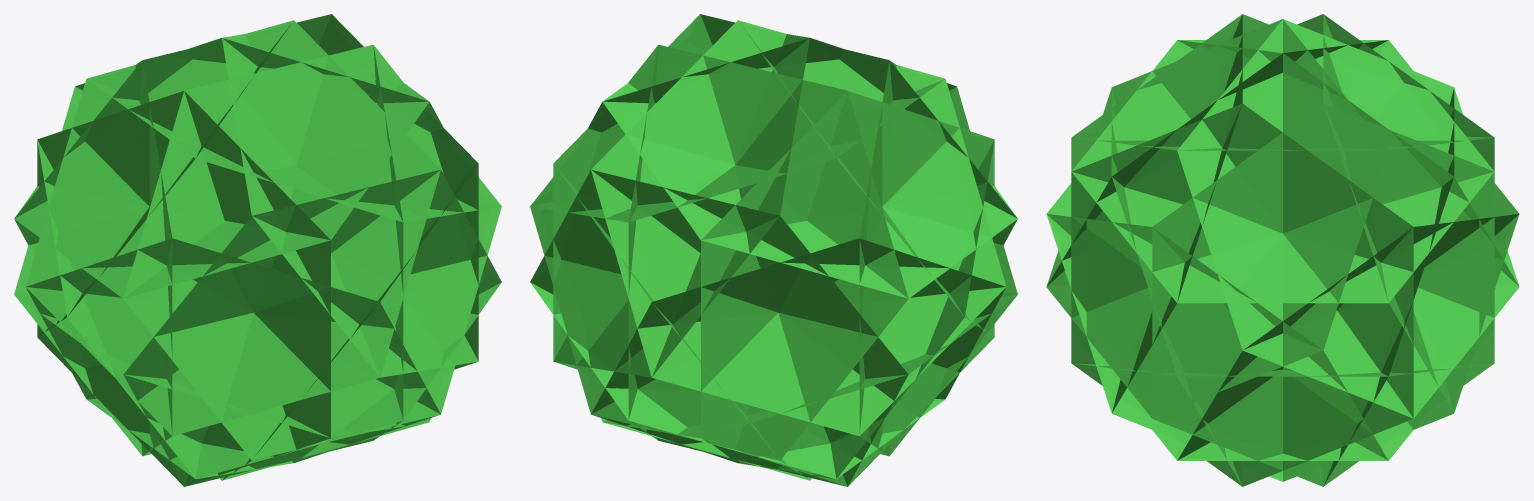
The model's file is GreatDodecicosahedronA.obj.
3 views of the same model, side by side, from view 1: azimuth 30°, elevation 25°; view 2: azimuth 150°, elevation 25°; view 3: azimuth 270°, elevation 25° (orthographic). The views are drawn at different scales.
Bounding box in the file's own units: 2.24 × 2.24 × 2.24.
